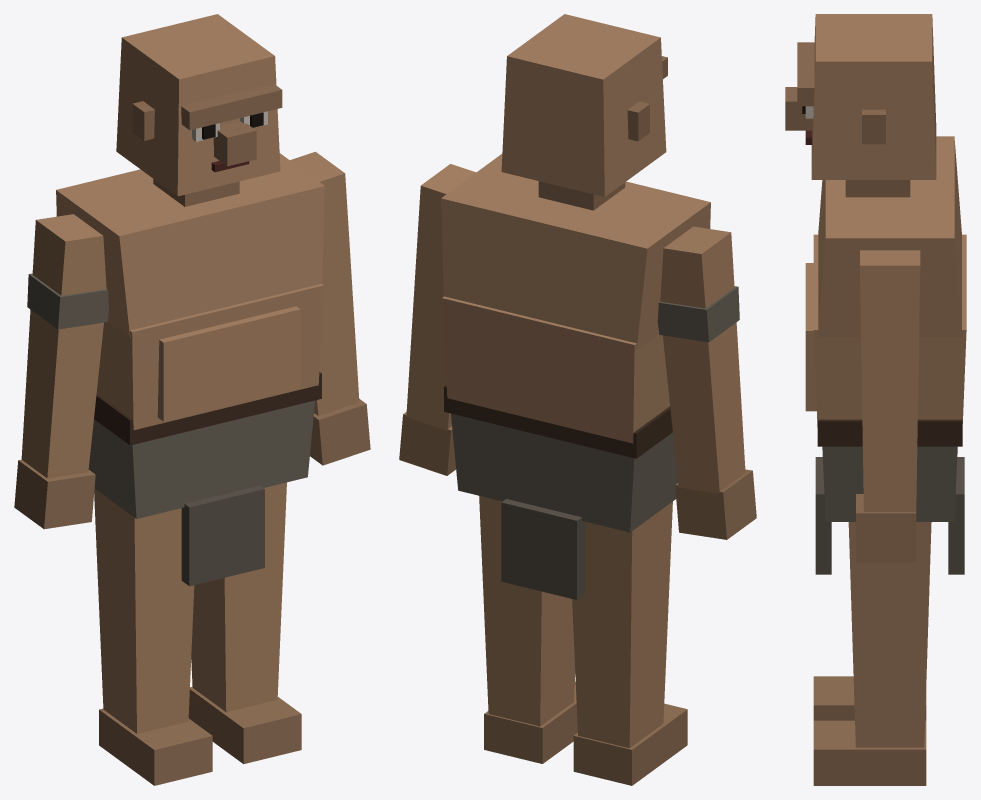
File: human_base.glb
The picture shows the model from 3 angles, left to right: view 1: azimuth 30°, elevation 25°; view 2: azimuth 150°, elevation 25°; view 3: azimuth 270°, elevation 25°; orthographic projection.
Parts seen in each view (by area): view 1: torso, hips, head, leg_R, arm_R, leg_L, arm_L; view 2: torso, hips, head, leg_R, arm_R, leg_L, arm_L; view 3: torso, head, leg_L, arm_L, hips, leg_R.
Boxes of the visible parts, x1,y1,x2,y2 form: torso: (56, 153, 324, 430); hips: (88, 372, 321, 586); head: (116, 14, 282, 206); leg_R: (94, 489, 212, 785); arm_R: (14, 214, 108, 529); leg_L: (188, 482, 301, 764); arm_L: (290, 151, 370, 465); torso: (441, 154, 710, 443); hips: (444, 385, 678, 599); head: (501, 14, 667, 210); leg_R: (572, 501, 687, 785); arm_R: (657, 226, 756, 539); leg_L: (479, 496, 577, 763); arm_L: (399, 164, 475, 475); torso: (805, 136, 966, 427); head: (785, 14, 936, 197); leg_L: (813, 522, 931, 785); arm_L: (856, 250, 920, 562); hips: (815, 419, 964, 574); leg_R: (813, 676, 926, 720).
Bounding box in the file's own units: 0.9528 × 1.95 × 0.45.
